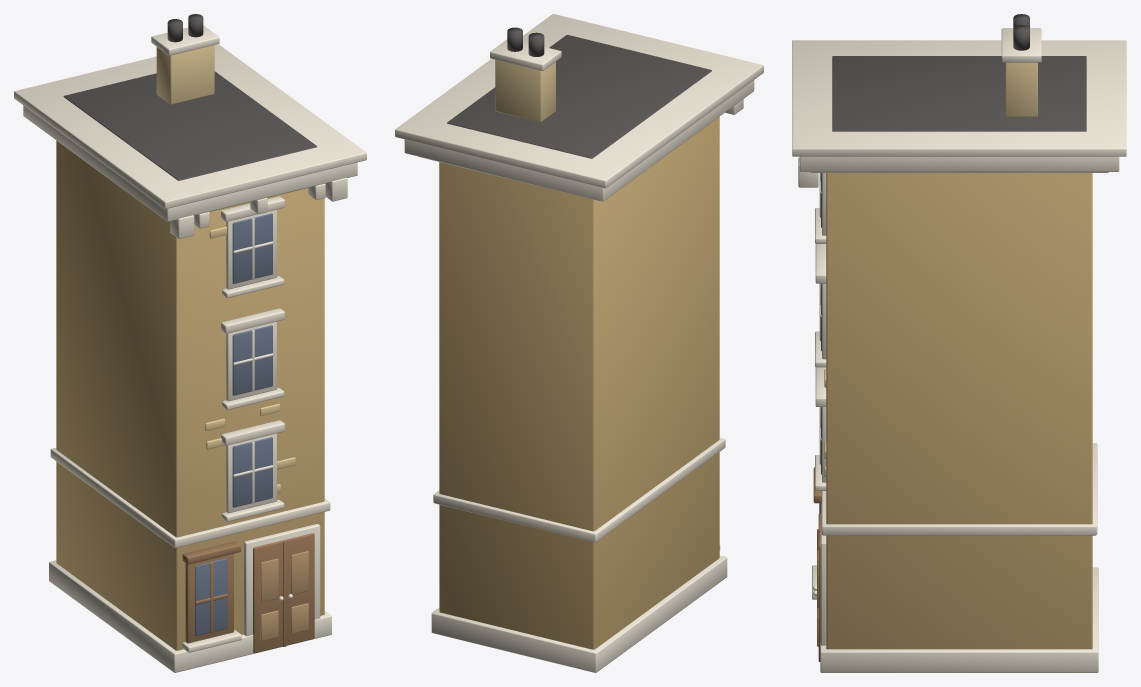
Rendered from edificio_03.glb.
The picture shows the model from 3 angles, left to right: view 1: azimuth 30°, elevation 25°; view 2: azimuth 150°, elevation 25°; view 3: azimuth 270°, elevation 25°; orthographic projection. The views are drawn at different scales.
Parts seen in each view (by area): view 1: corpo, cornicione_corona, tetto, zoccolo, cornicione_fascia, fascia_pt, comignolo_fusto, fin_p1_0_vetro, fin_p2_0_vetro, fin_p3_0_vetro, porta_anta_L, porta_cornice (+17 smaller); view 2: corpo, cornicione_corona, tetto, zoccolo, cornicione_fascia, fascia_pt, comignolo_fusto, comignolo_cappello; view 3: corpo, cornicione_corona, tetto, zoccolo, cornicione_fascia, fascia_pt, comignolo_fusto, comignolo_cappello, porta_cornice.
Part boxes in pixels (x1,y1,x2,y2): corpo: [56, 140, 324, 650]; cornicione_corona: [14, 44, 366, 208]; tetto: [63, 71, 317, 180]; zoccolo: [49, 560, 331, 672]; cornicione_fascia: [23, 105, 357, 221]; fascia_pt: [50, 448, 330, 548]; comignolo_fusto: [156, 45, 214, 104]; fin_p1_0_vetro: [232, 437, 272, 507]; fin_p2_0_vetro: [232, 325, 272, 395]; fin_p3_0_vetro: [232, 213, 272, 283]; porta_anta_L: [253, 540, 283, 653]; porta_cornice: [244, 524, 320, 636]; corpo: [439, 117, 719, 649]; cornicione_corona: [395, 14, 763, 188]; tetto: [447, 35, 711, 158]; zoccolo: [431, 555, 727, 672]; cornicione_fascia: [404, 80, 754, 201]; fascia_pt: [433, 437, 725, 542]; comignolo_fusto: [495, 60, 555, 122]; comignolo_cappello: [490, 39, 561, 71]; corpo: [826, 173, 1092, 649]; cornicione_corona: [792, 40, 1126, 156]; tetto: [832, 56, 1086, 131]; zoccolo: [820, 567, 1098, 672]; cornicione_fascia: [799, 156, 1119, 171]; fascia_pt: [821, 443, 1097, 535]; comignolo_fusto: [1005, 62, 1037, 116]; comignolo_cappello: [1001, 28, 1041, 62]; porta_cornice: [821, 504, 826, 645].
Size of the model in its own units: 4.35 by 11.56 by 5.65.
